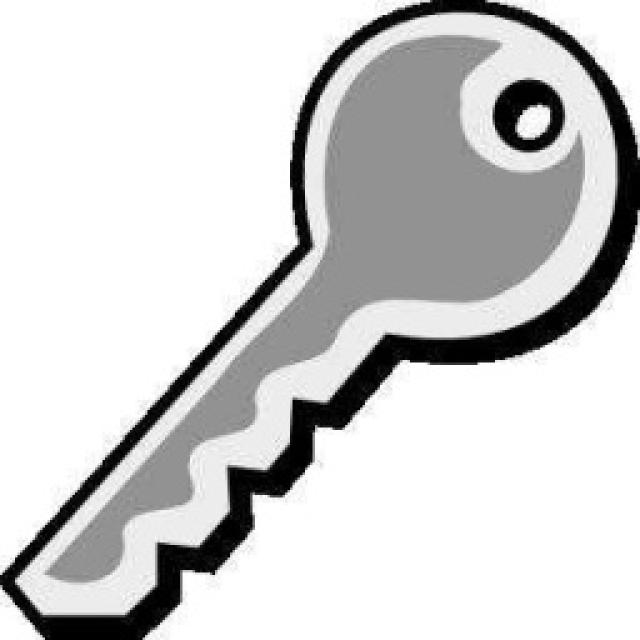anahtar: (1, 3, 640, 639)
